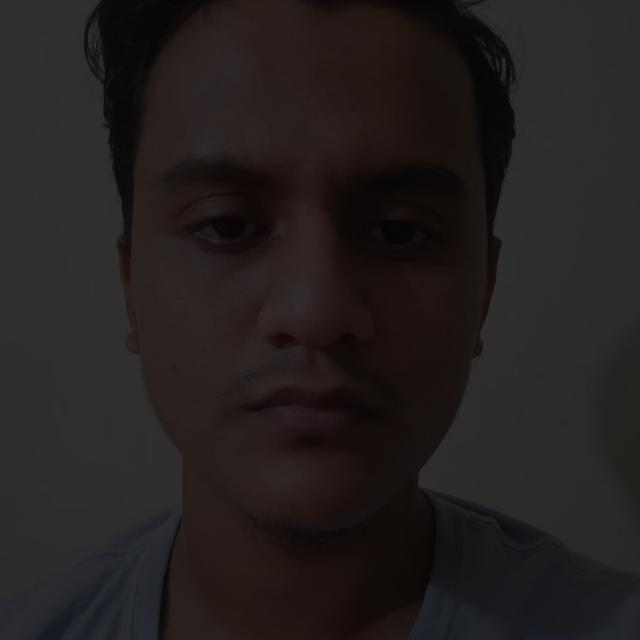Sad: (85, 67, 544, 533)
